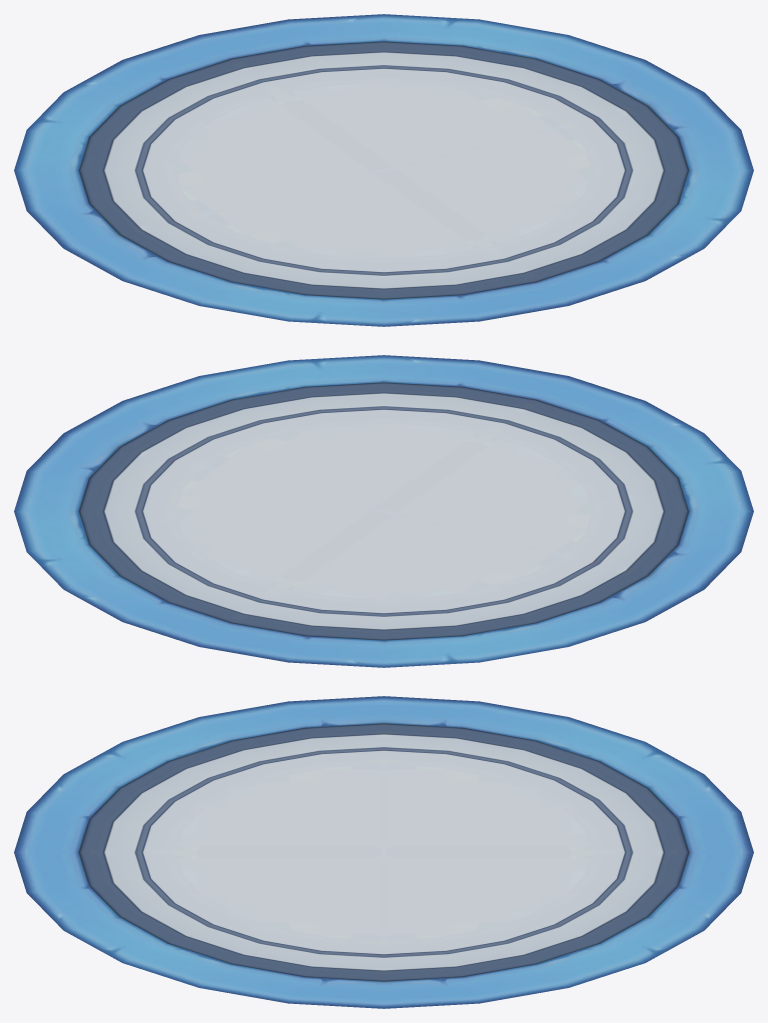
File: my_gamedevdept_01_carpet_01.glb
3 views of the same model, one above another, from view 1: azimuth 30°, elevation 25°; view 2: azimuth 150°, elevation 25°; view 3: azimuth 270°, elevation 25° (orthographic).
Visible parts, largest first — view 1: my_gamedevdept_01_carpet_01; view 2: my_gamedevdept_01_carpet_01; view 3: my_gamedevdept_01_carpet_01.
Boxes of the visible parts, bbox=[...] form: my_gamedevdept_01_carpet_01: bbox=[14, 14, 753, 326]; my_gamedevdept_01_carpet_01: bbox=[14, 355, 753, 667]; my_gamedevdept_01_carpet_01: bbox=[14, 696, 753, 1008].
Size of the model in its own units: 0.0108 by 4.88e-07 by 0.0108.
Materials: 1 (1 with a texture image).
